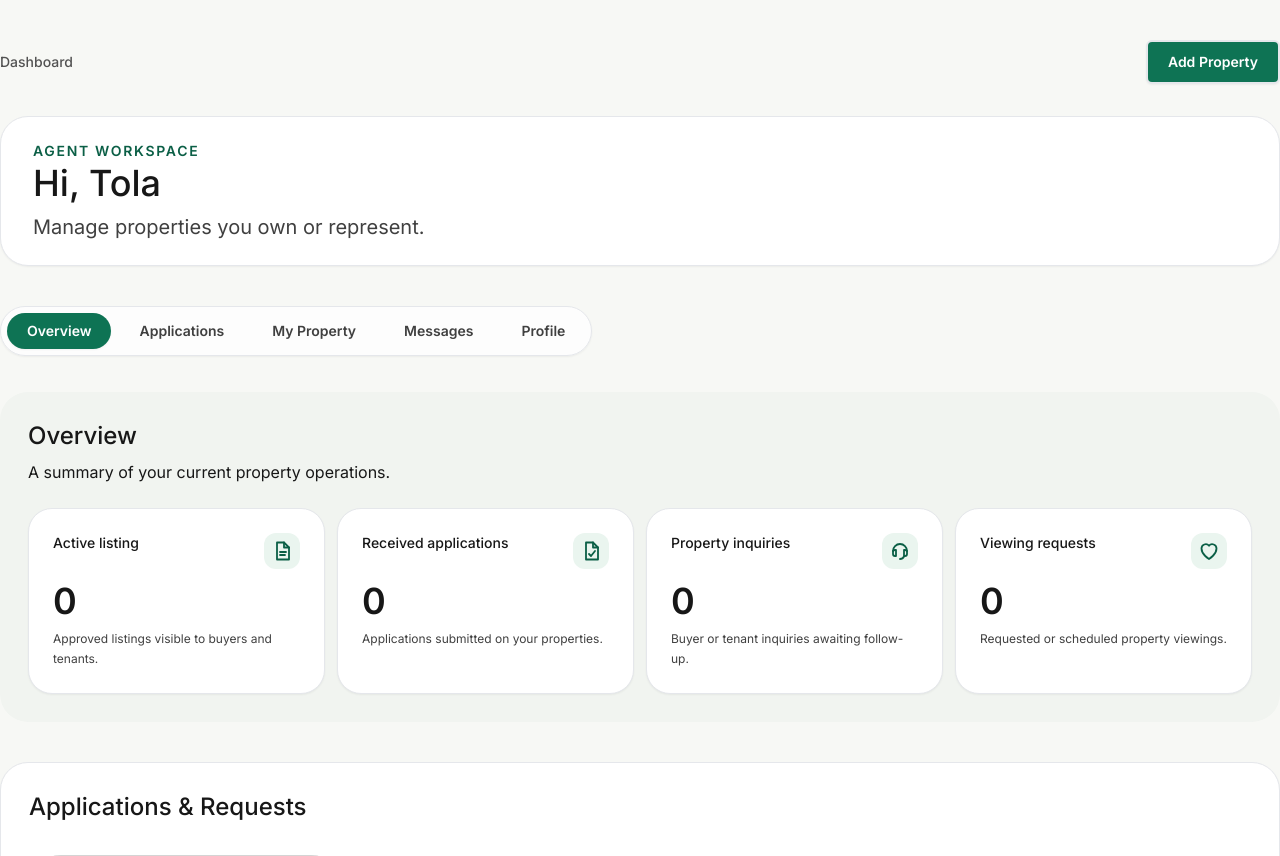
Scenario: DashboardPage › supports supply dashboard tabs without changing routes
Check: the heading "Hi, Tola" is shown, box [33, 161, 161, 205]
Click the tab "Messages": coordinates (439, 331) [384, 313, 493, 349]
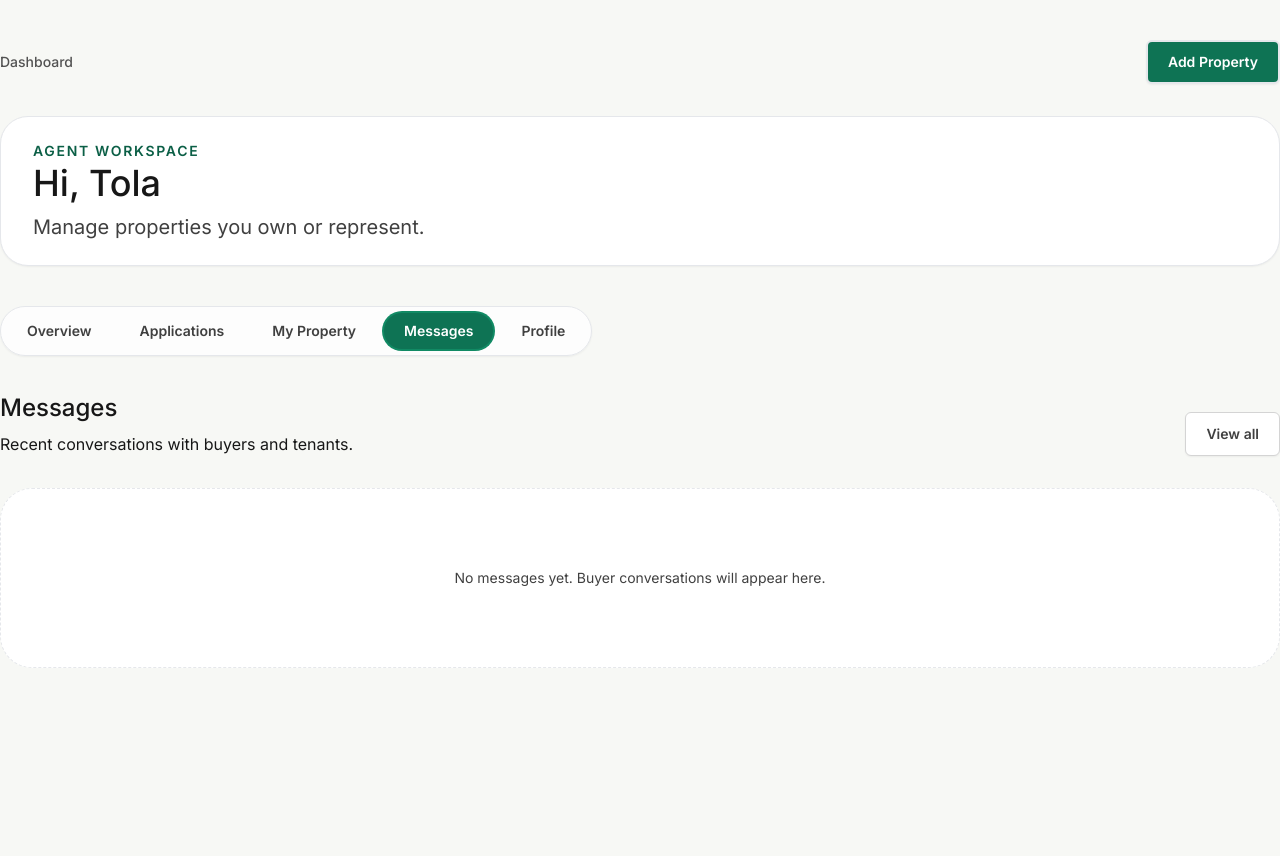
Check: the heading "Messages" is shown, box [0, 393, 117, 422]
Check: the heading "Applications & Requests" is gone
